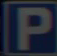Parking: (8, 2, 52, 46)
